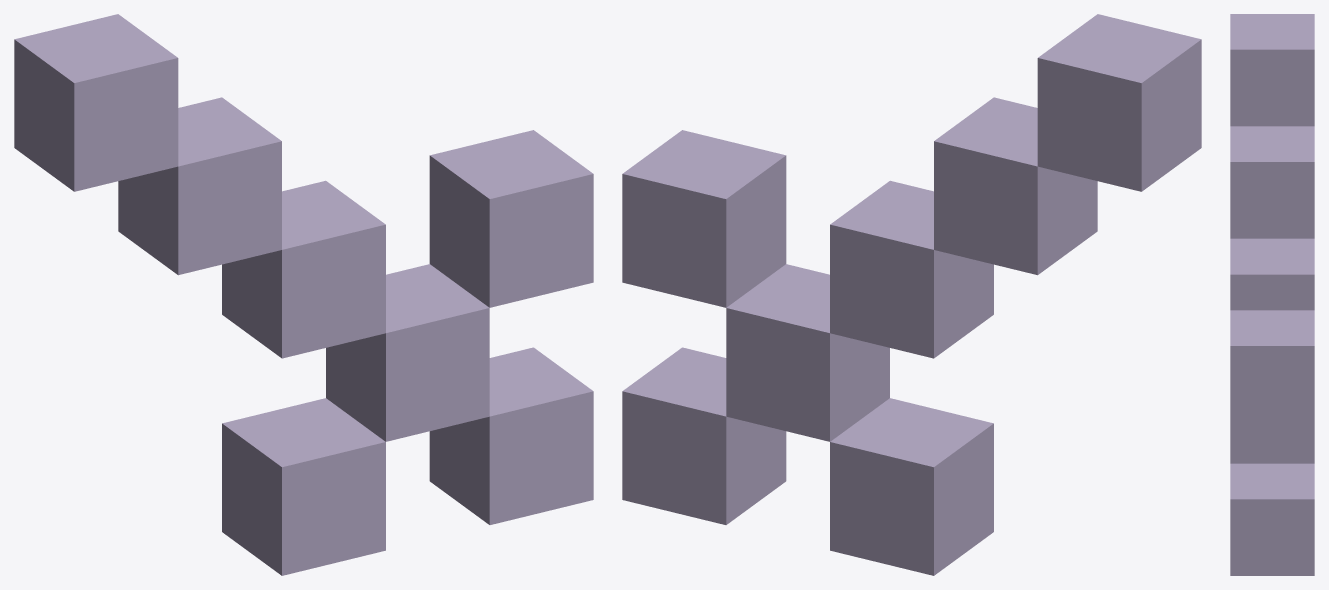
The model's file is Knife-Grey.vox.obj.
The picture shows the model from 3 angles, left to right: view 1: azimuth 30°, elevation 25°; view 2: azimuth 150°, elevation 25°; view 3: azimuth 270°, elevation 25°; orthographic projection. The views are drawn at different scales.
Size of the model in its own units: 0.5 by 0.5 by 0.1.
1 material, 1 textured.
